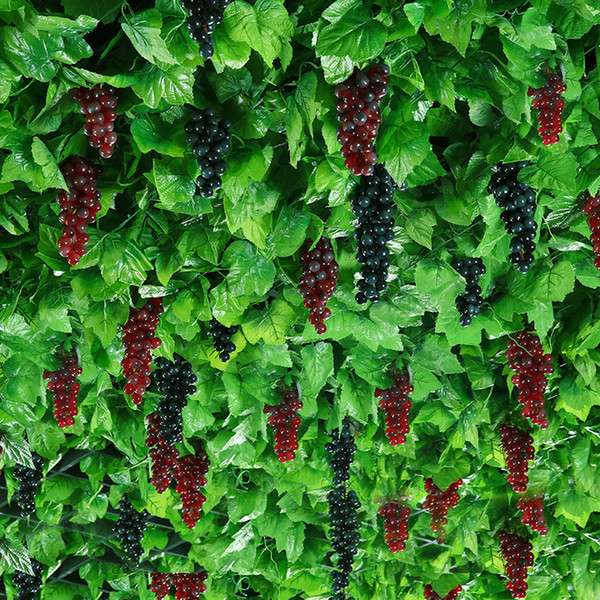Black grapes: (344, 163, 408, 313), (176, 89, 246, 210), (483, 155, 547, 282)
Red Grapes: (325, 48, 393, 182), (112, 287, 159, 415), (293, 228, 341, 345)
